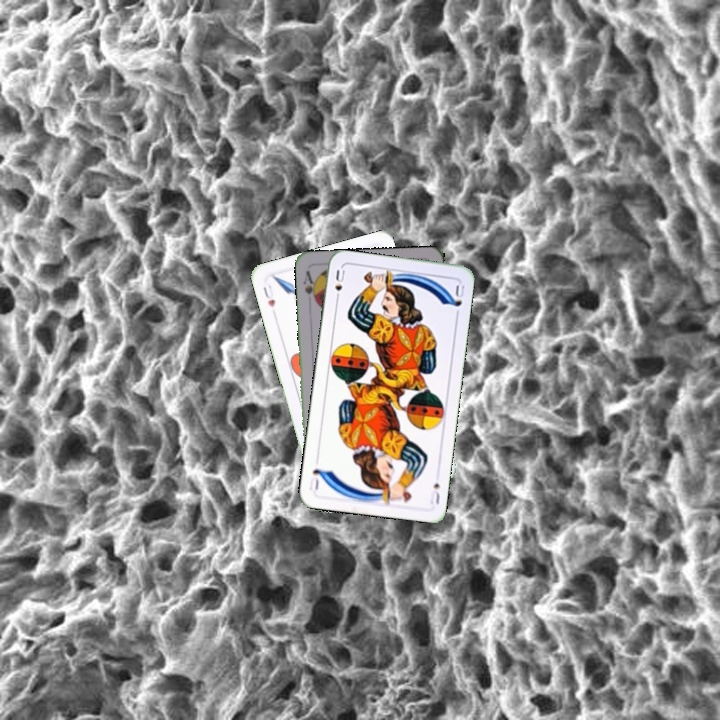HU: (259, 281, 277, 310)
SA: (299, 267, 319, 306)
SU: (331, 265, 347, 305), (426, 479, 442, 507)
